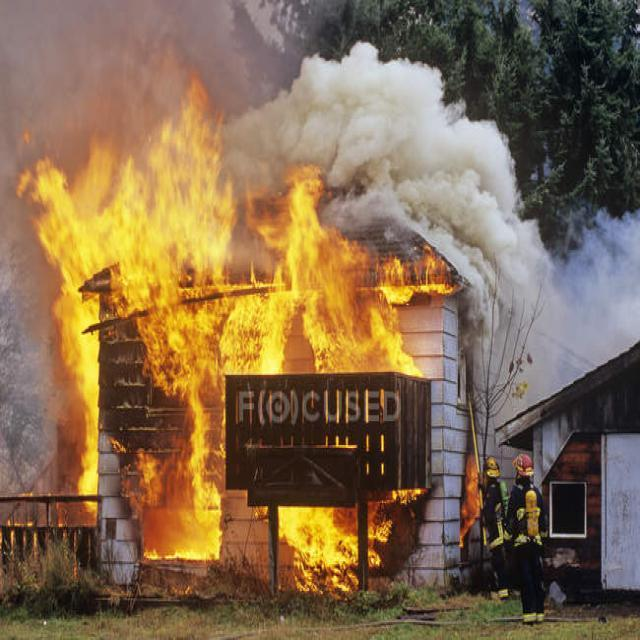Fire: (46, 178, 226, 264), (144, 292, 282, 372), (312, 292, 386, 366), (288, 245, 364, 285), (282, 512, 333, 540)
Smoke: (306, 66, 432, 162), (435, 128, 508, 244)
